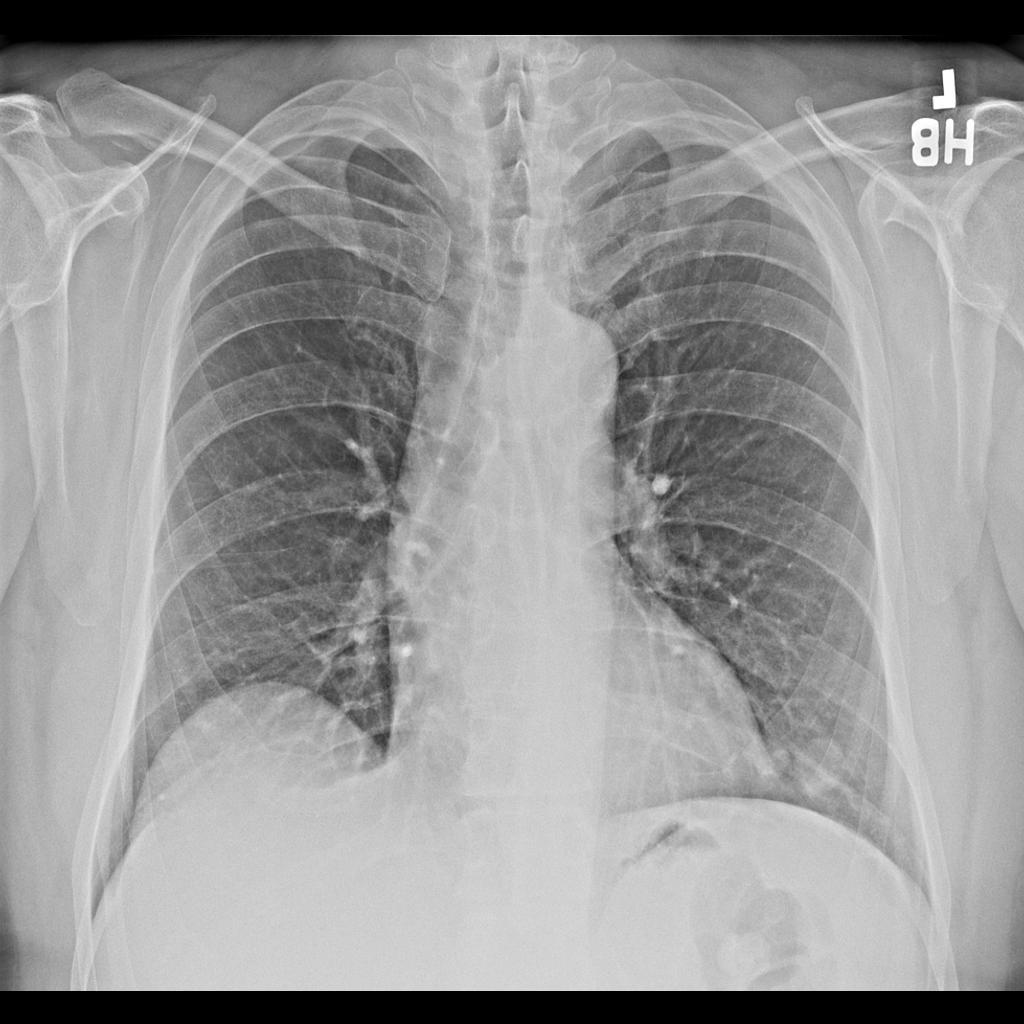Nodule: (795, 740, 853, 797), (754, 739, 793, 784)
